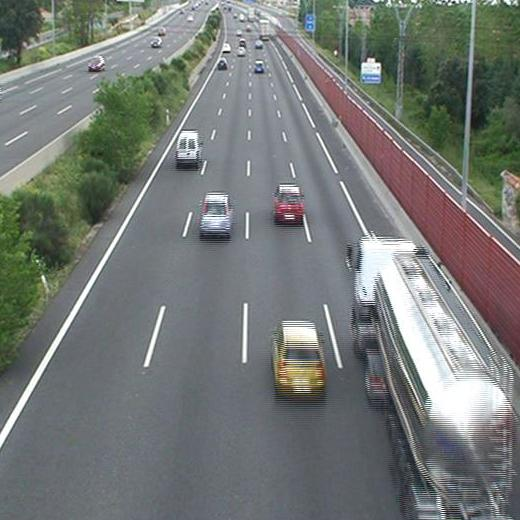car: (271, 322, 325, 395), (201, 194, 232, 235), (275, 186, 303, 221), (254, 61, 264, 72), (218, 59, 228, 69), (237, 48, 246, 57), (221, 44, 230, 53), (255, 40, 262, 48)
tank-truck: (353, 239, 514, 520)
van: (176, 131, 201, 165)
